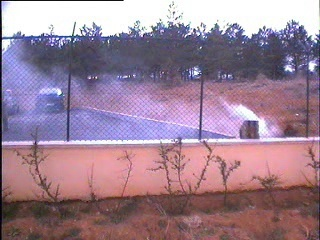smoke: (117, 86, 279, 139)
